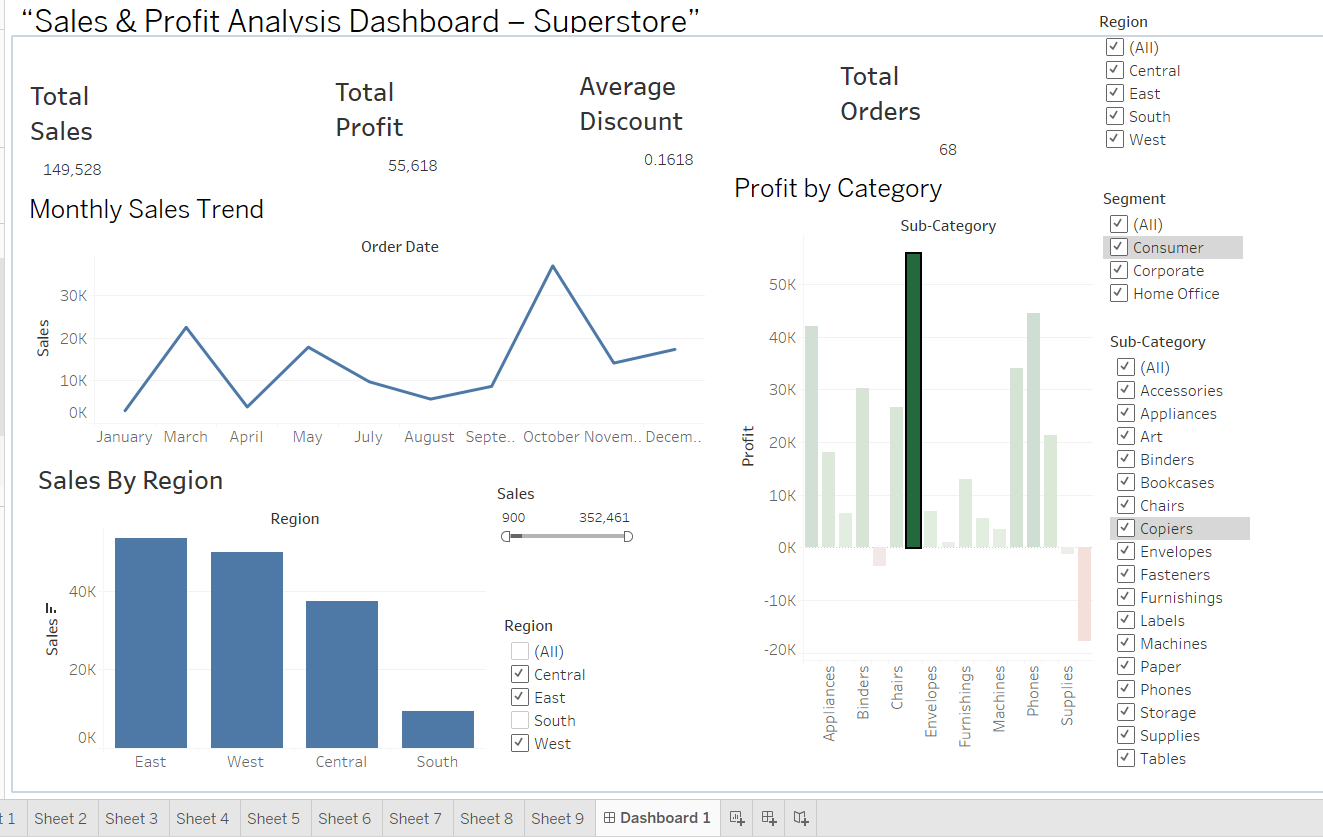

Layout of this report page (visuals, bound fields, positions):
{"tool":"tableau","page":{"name":"Dashboard 1","canvas":[1000,1000],"units":"permille","ordinal":0},"visuals":[{"type":"title","box":[5.5,10,989,39.9]},{"type":"filter","title":"Sheet 5","param":"[federated.04pyzly0xpd7ff17e41631brcbwb].[none:Region:nk]","box":[754.5,17.5,110.3,178.3]},{"type":"worksheet","title":"Sheet 3","mark":"Automatic","box":[573.1,71.1,86.9,179.6]},{"type":"worksheet","title":"Sheet 4","mark":"Automatic","box":[393.1,83.5,84.8,134.7]},{"type":"worksheet","title":"Sheet 2","mark":"Automatic","box":[224.8,91,76.5,144.6]},{"type":"worksheet","title":"Sheet 1","mark":"Automatic","box":[14.5,96,213.1,132.2]},{"type":"worksheet","title":"Sheet 6","mark":"Automatic","rows":["Profit"],"cols":["Sub-Category"],"box":[500,213.2,250.3,738.1]},{"type":"filter","title":"Sheet 7","param":"[federated.04pyzly0xpd7ff17e41631brcbwb].[none:Segment:nk]","box":[757.2,238.2,96.5,149.6]},{"type":"worksheet","title":"Sheet 7","mark":"Automatic","rows":["Sales"],"cols":["Order Date"],"box":[13.8,239.4,469,322.9]},{"type":"filter","title":"Sheet 6","param":"[federated.04pyzly0xpd7ff17e41631brcbwb].[none:Sub-Category:nk]","box":[761.8,416.5,97,551.1]},{"type":"worksheet","title":"Sheet 5","mark":"Automatic","rows":["Sales"],"cols":["Region"],"box":[20,574.8,311.7,392.8]},{"type":"filter","title":"Sheet 7","param":"[federated.04pyzly0xpd7ff17e41631brcbwb].[sum:Sales:qk]","box":[339.3,606,96.5,81]},{"type":"filter","title":"Sheet 7","param":"[federated.04pyzly0xpd7ff17e41631brcbwb].[none:Region:nk]","box":[344.1,770.6,96.5,178.3]}]}

Visuals, with their boxes on the dashboard's canvas, which has no fixed pixel size, in thousandths of its width and height (x1, y1, x2, y2). These are canvas units, not pixel positions in the 1323x837 screenshot, which may show the page scaled, cropped or inside an application window:
title: left=6, top=10, right=994, bottom=50
"Sheet 5" filter: left=754, top=18, right=865, bottom=196
"Sheet 3" worksheet: left=573, top=71, right=660, bottom=251
"Sheet 4" worksheet: left=393, top=84, right=478, bottom=218
"Sheet 2" worksheet: left=225, top=91, right=301, bottom=236
"Sheet 1" worksheet: left=14, top=96, right=228, bottom=228
"Sheet 6" worksheet: left=500, top=213, right=750, bottom=951
"Sheet 7" filter: left=757, top=238, right=854, bottom=388
"Sheet 7" worksheet: left=14, top=239, right=483, bottom=562
"Sheet 6" filter: left=762, top=416, right=859, bottom=968
"Sheet 5" worksheet: left=20, top=575, right=332, bottom=968
"Sheet 7" filter: left=339, top=606, right=436, bottom=687
"Sheet 7" filter: left=344, top=771, right=441, bottom=949
